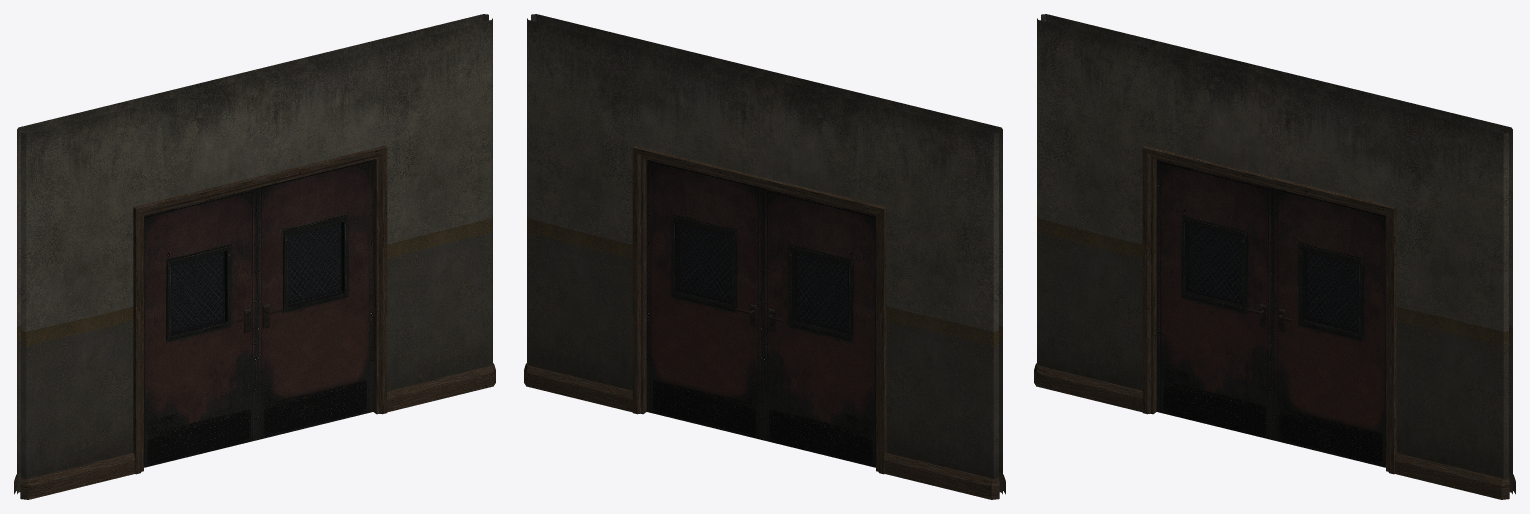
File: doorway_2_wide.glb
3 views of the same model, side by side, from view 1: azimuth 30°, elevation 25°; view 2: azimuth 150°, elevation 25°; view 3: azimuth 330°, elevation 25° (orthographic).
Parts seen in each view (by area): view 1: doorway_2_wide, double_door_4_piece_2, double_door_4_piece_1; view 2: doorway_2_wide, double_door_4_piece_2, double_door_4_piece_1; view 3: doorway_2_wide, double_door_4_piece_1, double_door_4_piece_2.
Part boxes in pixels (bbox=[...]): doorway_2_wide: bbox=[14, 14, 495, 499]; double_door_4_piece_2: bbox=[257, 159, 373, 440]; double_door_4_piece_1: bbox=[144, 188, 256, 467]; doorway_2_wide: bbox=[524, 14, 1005, 499]; double_door_4_piece_2: bbox=[646, 159, 762, 440]; double_door_4_piece_1: bbox=[763, 188, 875, 467]; doorway_2_wide: bbox=[1034, 14, 1515, 499]; double_door_4_piece_1: bbox=[1156, 159, 1272, 440]; double_door_4_piece_2: bbox=[1273, 188, 1385, 467].
Size of the model in its own units: 4.09 by 3 by 0.2.
4 materials, 4 textured.
